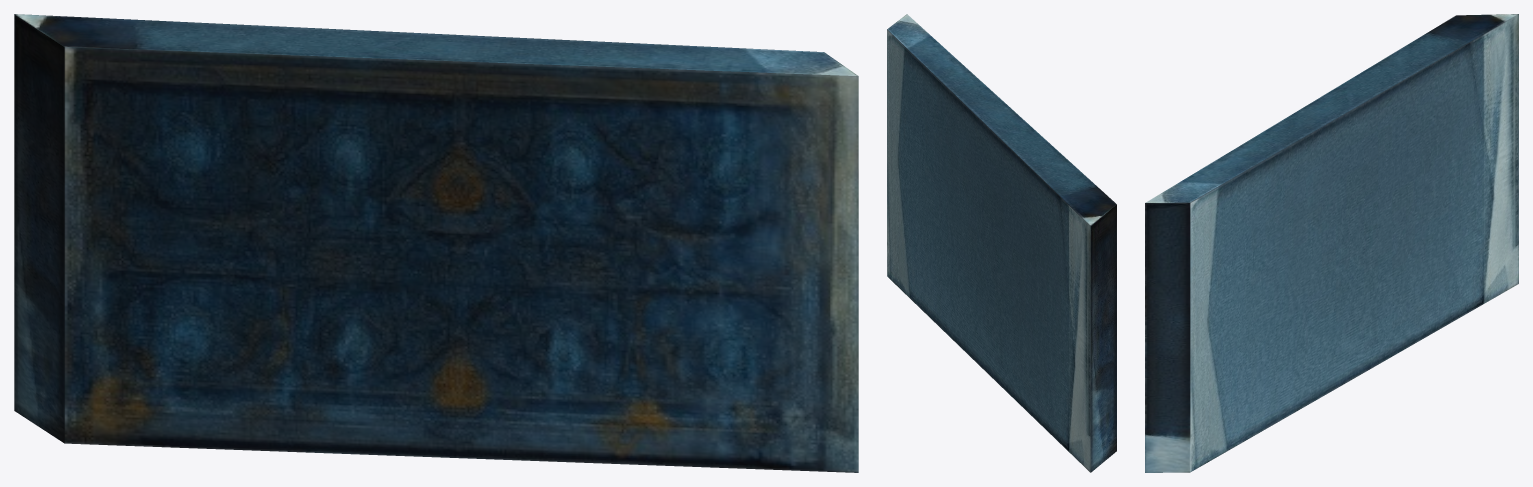
The model's file is murs_cible_left_lvl_2.glb.
3 renders of one model, left to right at view 1: azimuth 30°, elevation 25°; view 2: azimuth 150°, elevation 25°; view 3: azimuth 270°, elevation 25°, orthographic. The views are drawn at different scales.
Parts seen in each view (by area): view 1: Mesh_0.005; view 2: Mesh_0.005; view 3: Mesh_0.005.
Boxes of the visible parts, x1,y1,x2,y2 form: Mesh_0.005: [14, 14, 858, 472]; Mesh_0.005: [887, 14, 1116, 472]; Mesh_0.005: [1145, 14, 1518, 472].
Size of the model in its own units: 0.1347 by 0.0896 by 0.1125.
1 material, 1 textured.
